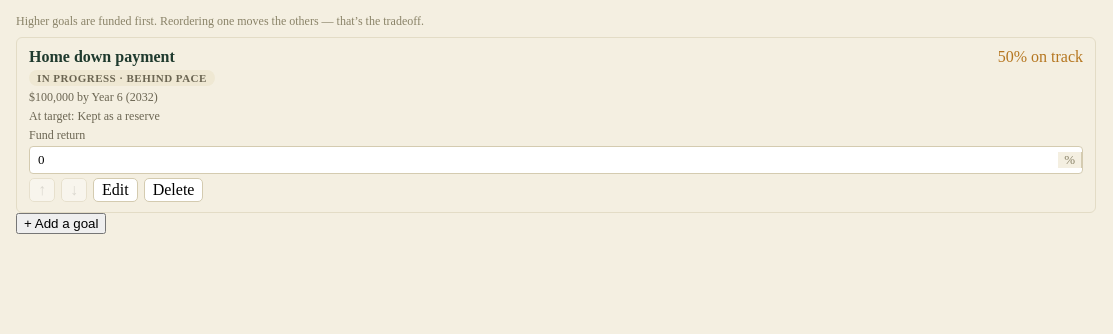
Test case: GoalsPanel — delete refusal › shows the blocking events and does not transact when deletion is refused
Click the button with aria-label "Delete Home down payment" at (174, 190), box [144, 178, 204, 202]
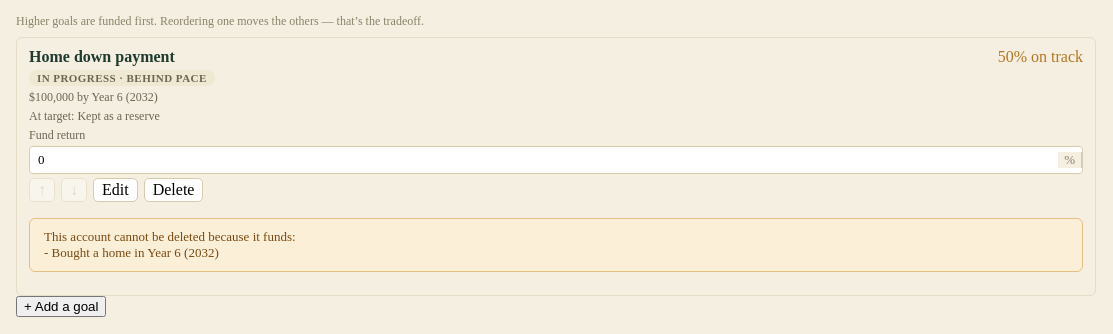
Result: the message shows "This account cannot be deleted because it funds" at [44, 229, 296, 260]
Result: the message shows "Bought a home" at [44, 229, 296, 260]
